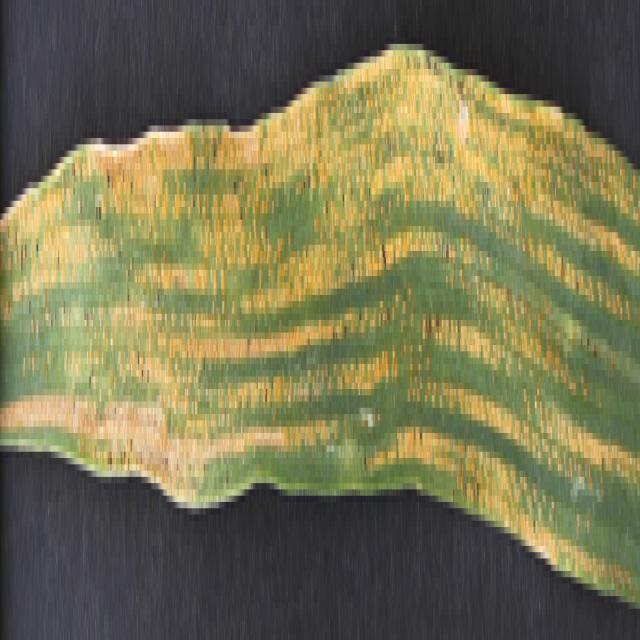leaf rust: (1, 50, 639, 590)
